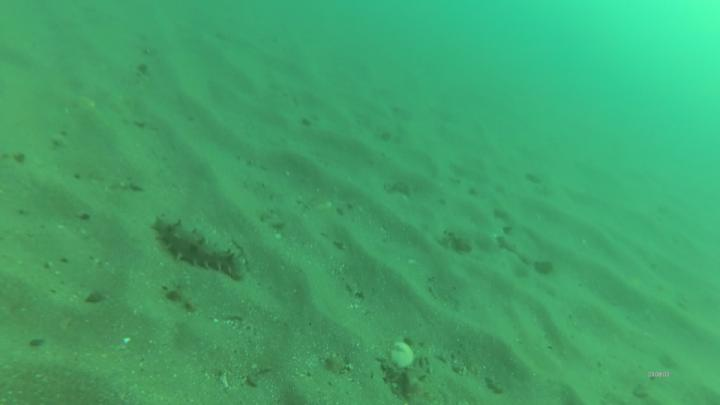holothurian: (150, 213, 251, 284)
